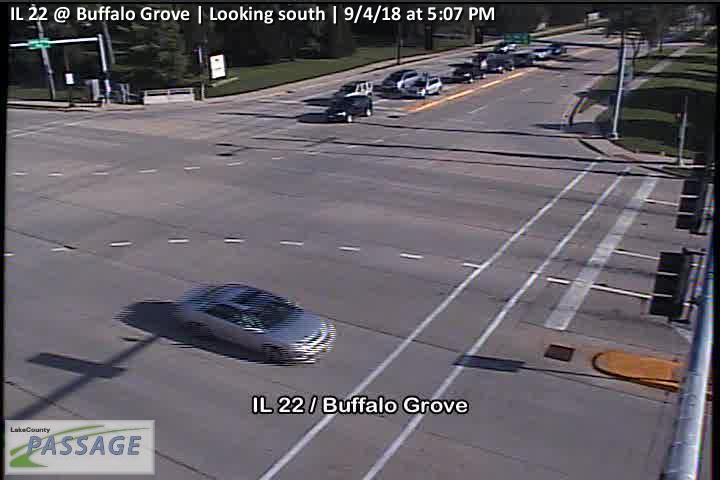SUV: (324, 95, 373, 123), (333, 79, 374, 103), (381, 68, 420, 92), (407, 74, 443, 99)
Sedan: (170, 283, 337, 364)
